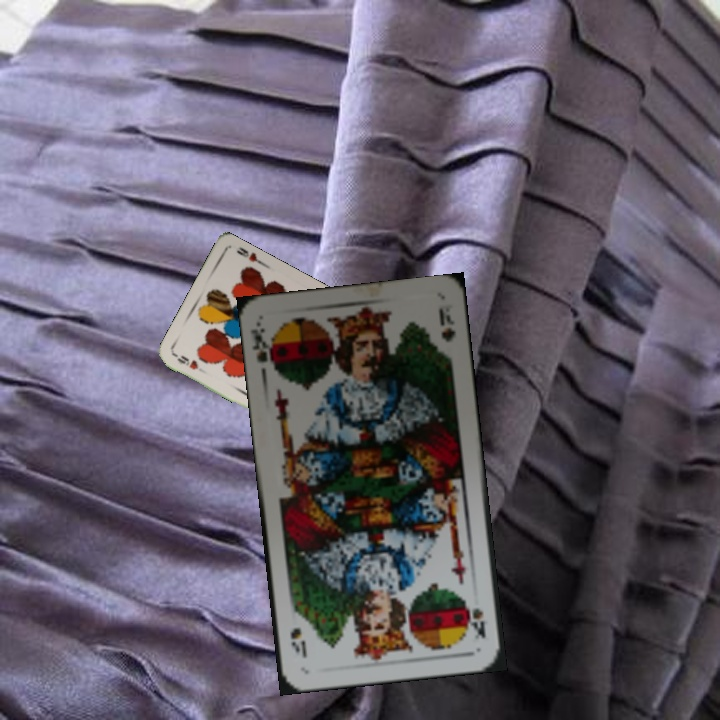H9: (171, 350, 201, 372)
SK: (247, 320, 279, 373), (464, 602, 488, 642)
